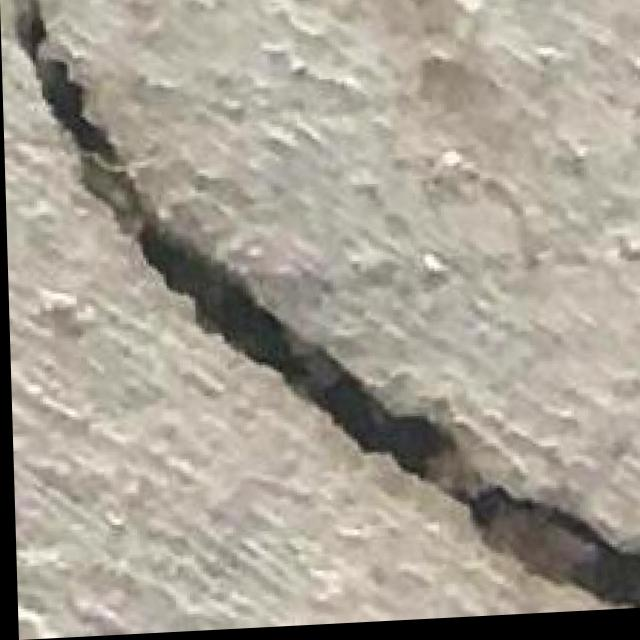Crack: (2, 55, 640, 584)
